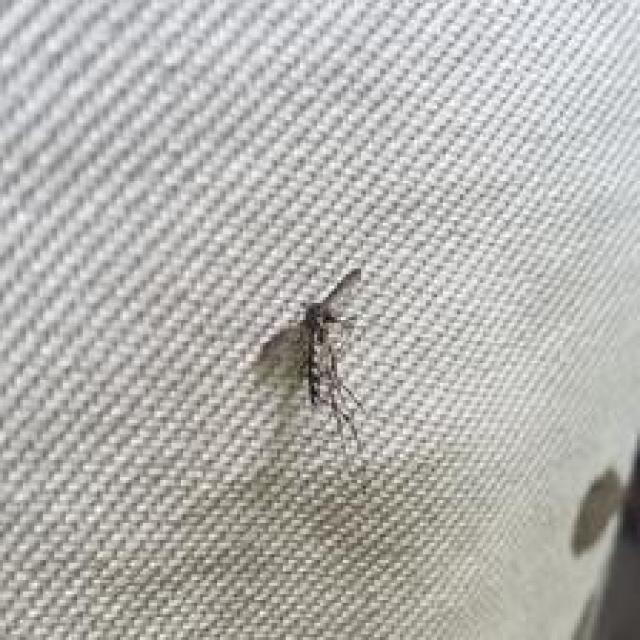Aedes albopictus: (247, 266, 370, 451)
